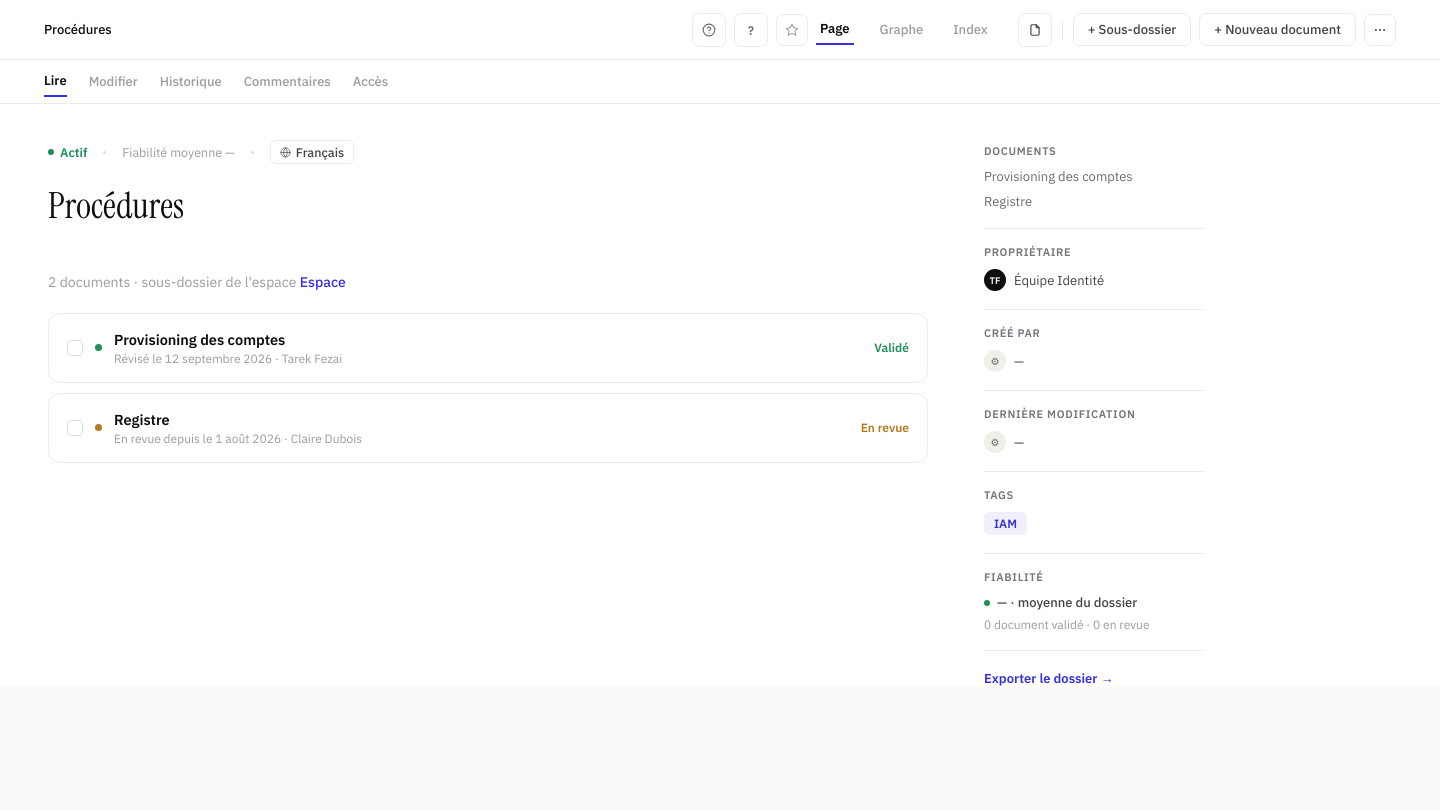
FolderPage › Commentaires vide sans page
Click the tab "Commentaires" at [287, 82], box 244,67 -> 331,96
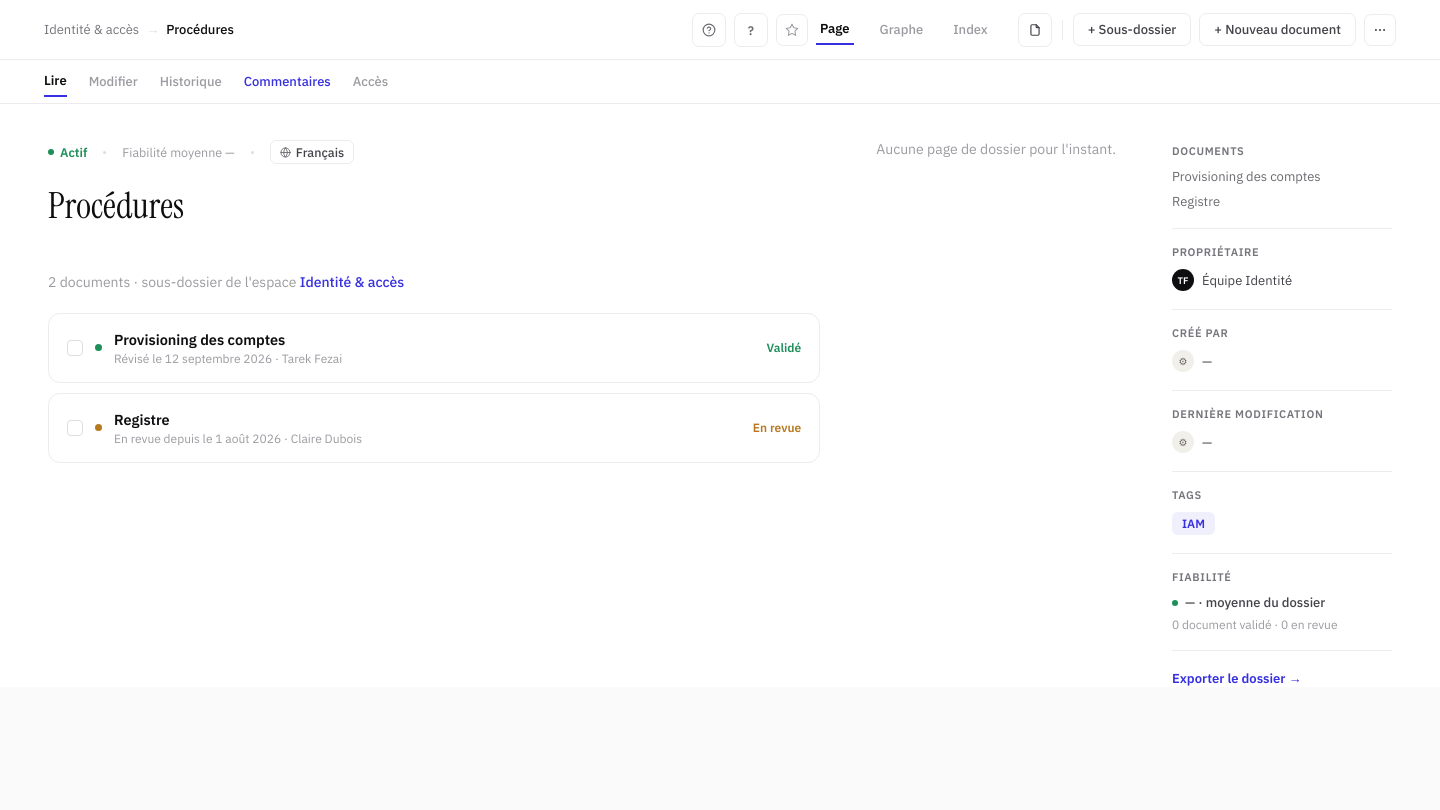
Result: the text "Aucune page de dossier pour l'instant." is shown at 876,140 -> 1116,158
